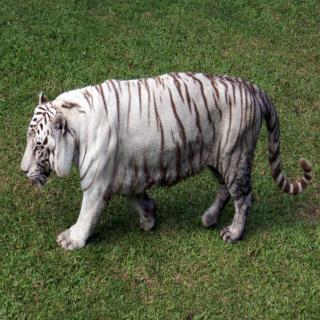Tiger: (20, 69, 312, 252)
